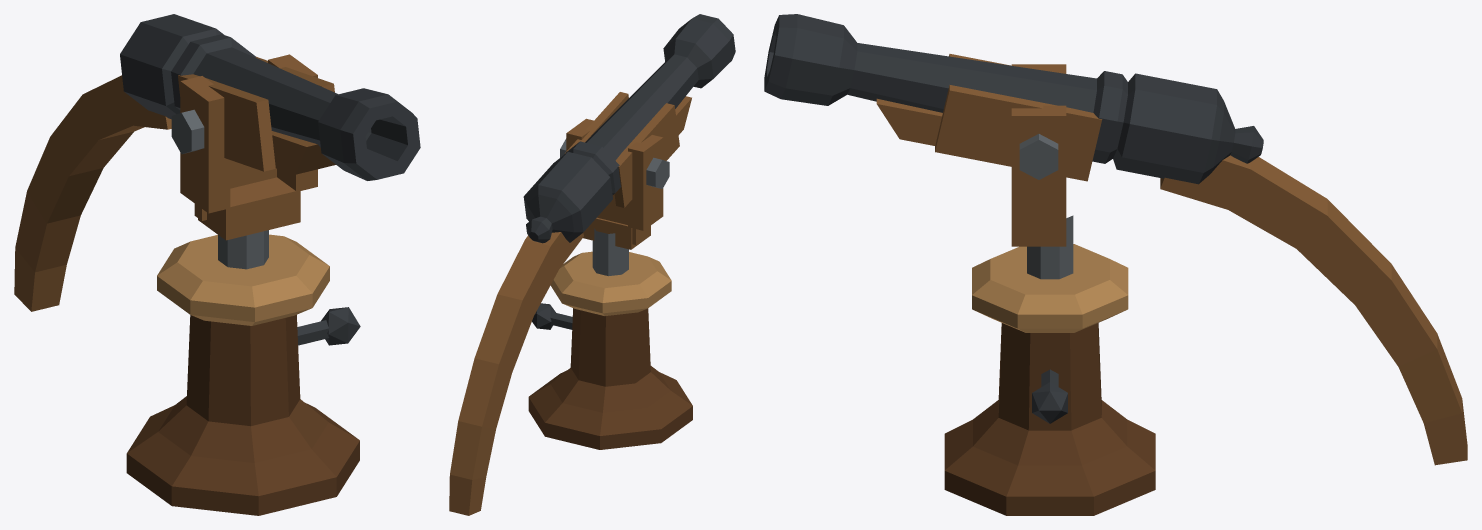
The model's file is swivel-gun-e06c4e.glb.
3 renders of one model, left to right at view 1: azimuth 30°, elevation 25°; view 2: azimuth 150°, elevation 25°; view 3: azimuth 270°, elevation 25°, orthographic. The views are drawn at different scales.
Visible parts, largest first — view 1: swivel-gun-body, elevate, traverse; view 2: elevate, swivel-gun-body, traverse; view 3: elevate, swivel-gun-body, traverse.
Boxes of the visible parts, box(x1,y1,x2,y2) form: swivel-gun-body: box(126, 234, 360, 515); elevate: box(14, 14, 420, 311); traverse: box(171, 54, 317, 269); elevate: box(449, 14, 735, 515); swivel-gun-body: box(528, 251, 692, 449); traverse: box(560, 118, 669, 276); elevate: box(764, 14, 1467, 465); swivel-gun-body: box(944, 244, 1155, 515); traverse: box(1011, 64, 1073, 279).
Bounding box in the file's own units: 0.4137 × 0.8918 × 1.26.
